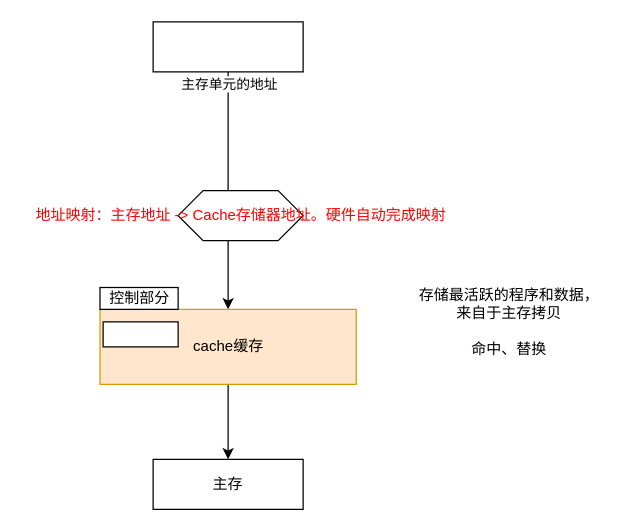
The diagram is 624 pixels wide and 531 high, and some of its shapes have lost their labels. Each missing label, with the centre of its shape:
CPU: the point at 227,46
存储器: the point at 140,334
